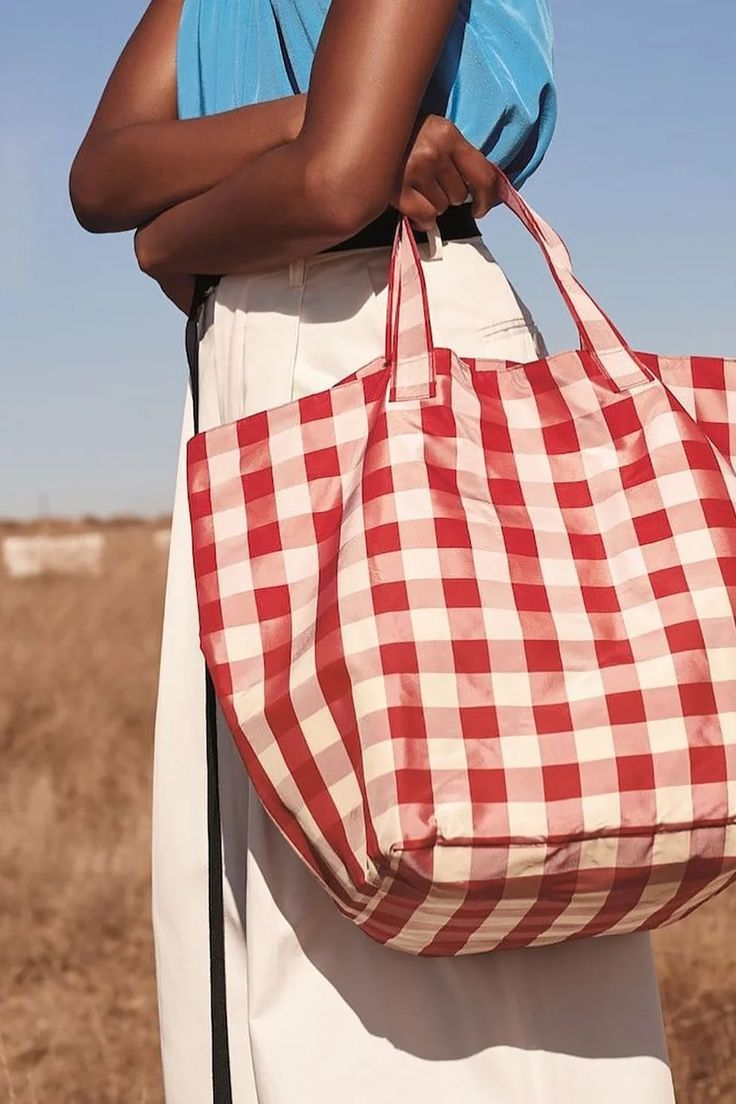nylon: (192, 159, 736, 959)
